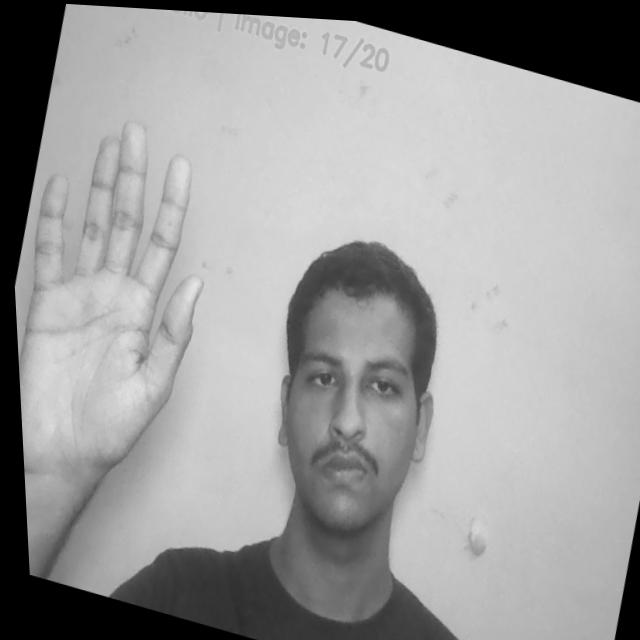Hello: (3, 77, 245, 517)
